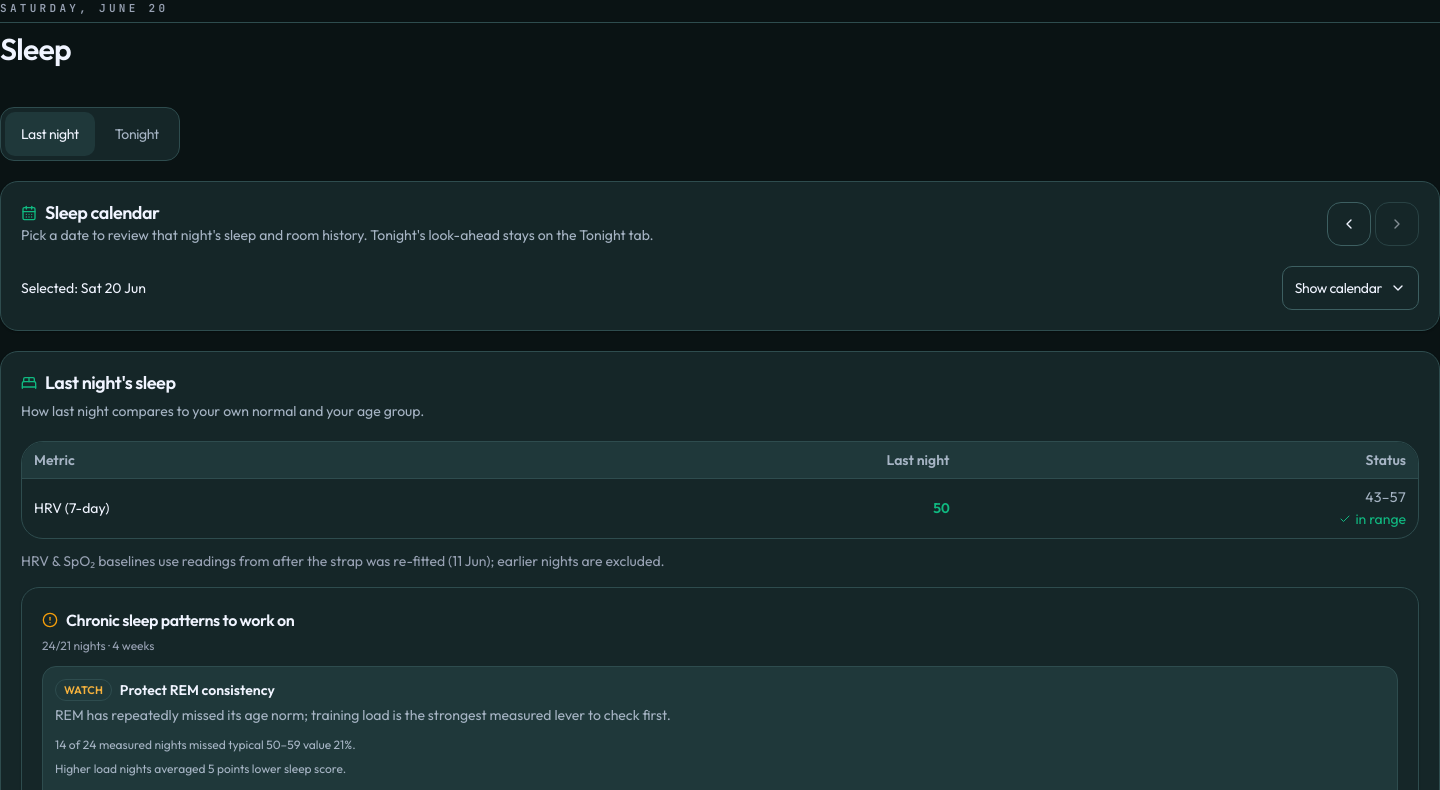
Test case: SleepPage › keeps Last night dormant but re-enables Tonight on the return-home date
Click the tab "Tonight" at (137, 134), box [99, 112, 175, 156]
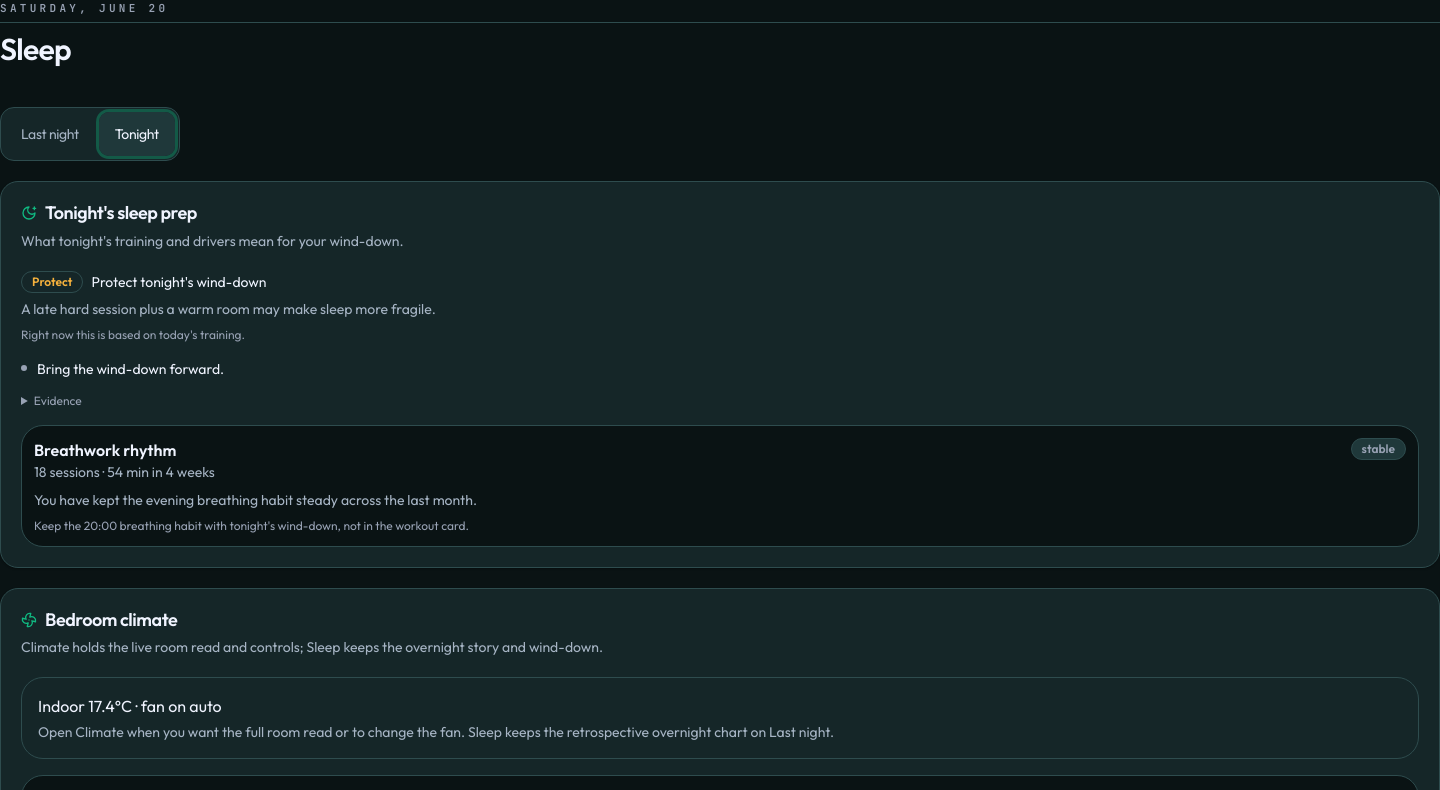
Expected: the heading "Tonight's sleep prep" is shown, [21, 201, 197, 224]
